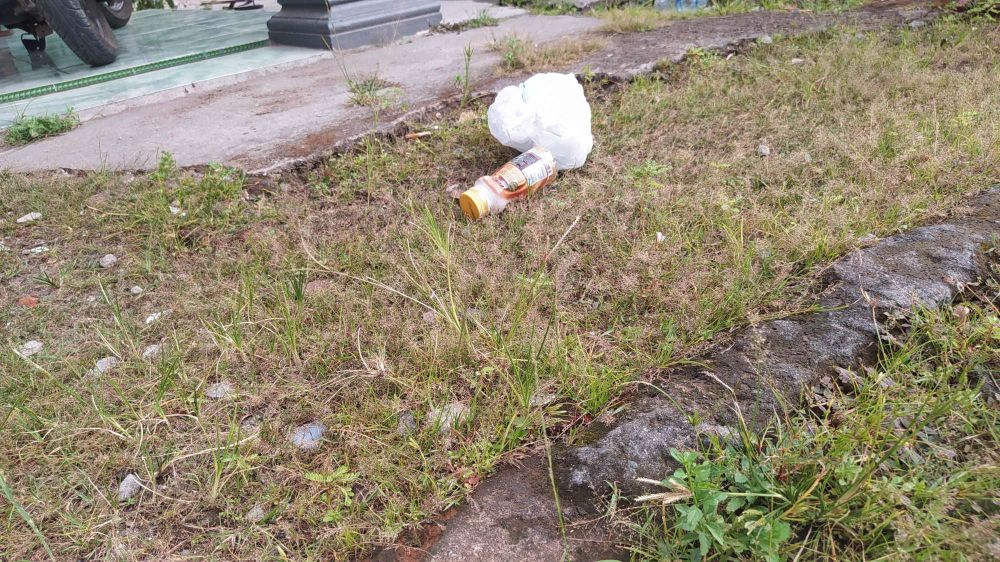botol: (443, 151, 561, 212)
plastik: (482, 67, 611, 162)
